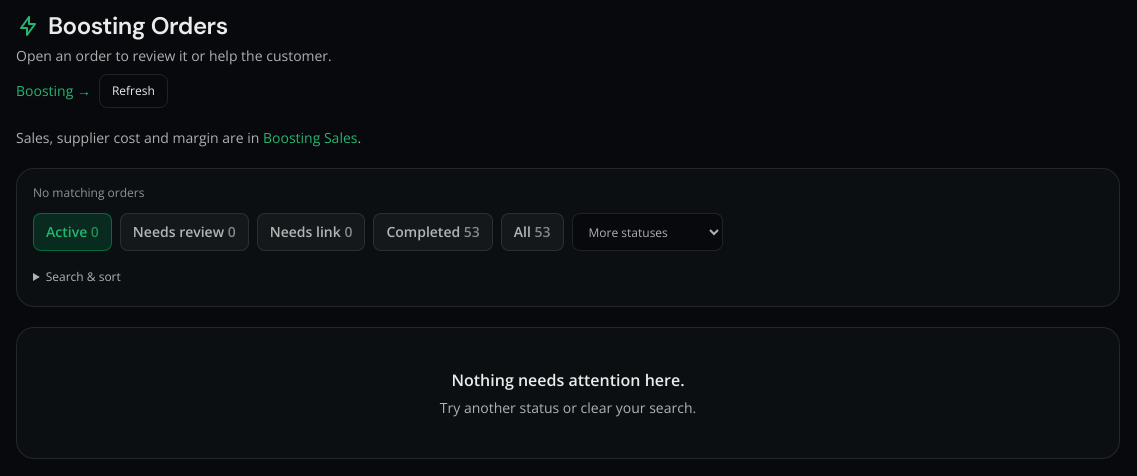
refreshes the order queue and points sales reporting to Analytics
Click the button "Refresh". click: (133, 91)
box: [99, 74, 168, 108]
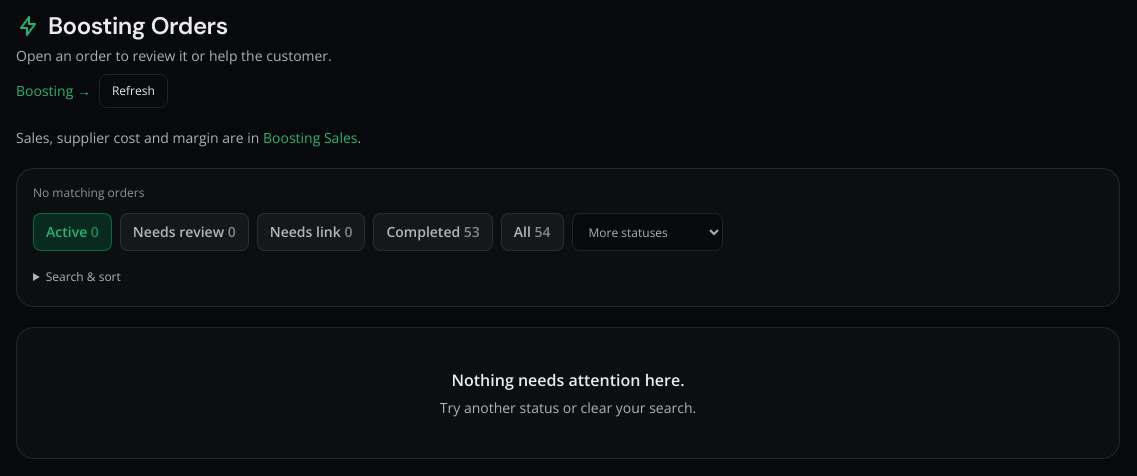
Expected: the button "All 54" is shown, [501, 213, 564, 251]
